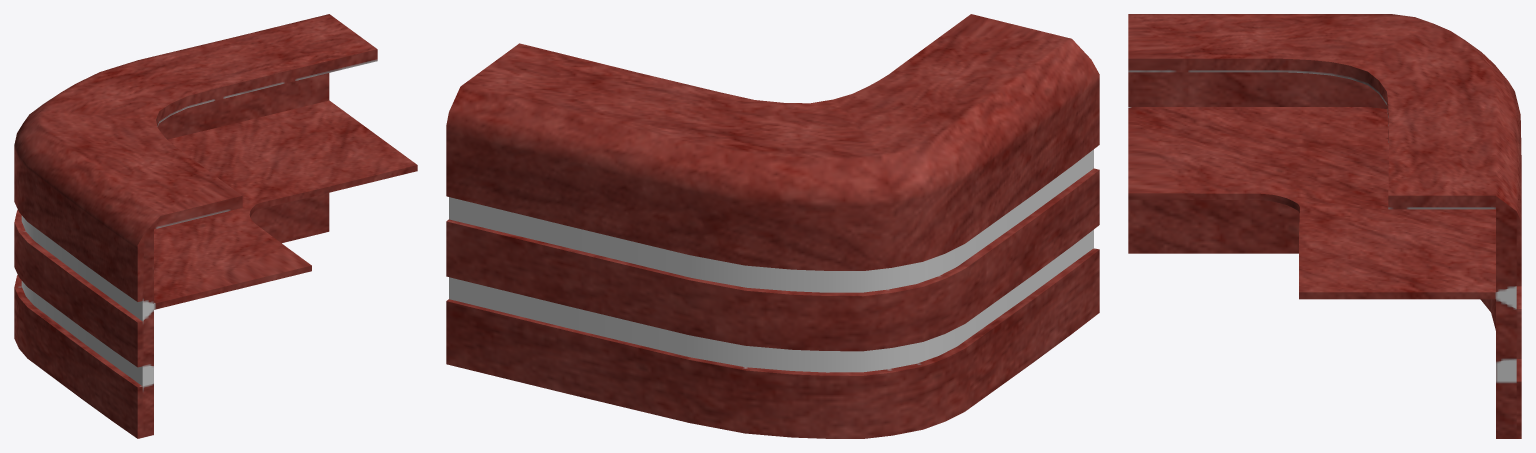
Rendered from ReceptionDesk_Corner_Left.glb.
3 views of the same model, side by side, from view 1: azimuth 30°, elevation 25°; view 2: azimuth 150°, elevation 25°; view 3: azimuth 270°, elevation 25° (orthographic). The views are drawn at different scales.
Visible parts, largest first — view 1: LeftCurveDeskConnector; view 2: LeftCurveDeskConnector; view 3: LeftCurveDeskConnector.
Part boxes in pixels (x1=…): LeftCurveDeskConnector: x1=14, y1=14, x2=417, y2=438; LeftCurveDeskConnector: x1=446, y1=14, x2=1099, y2=438; LeftCurveDeskConnector: x1=1128, y1=14, x2=1521, y2=438.
Bounding box in the file's own units: 1.85 × 1.08 × 1.58.
1 material, 1 textured.
